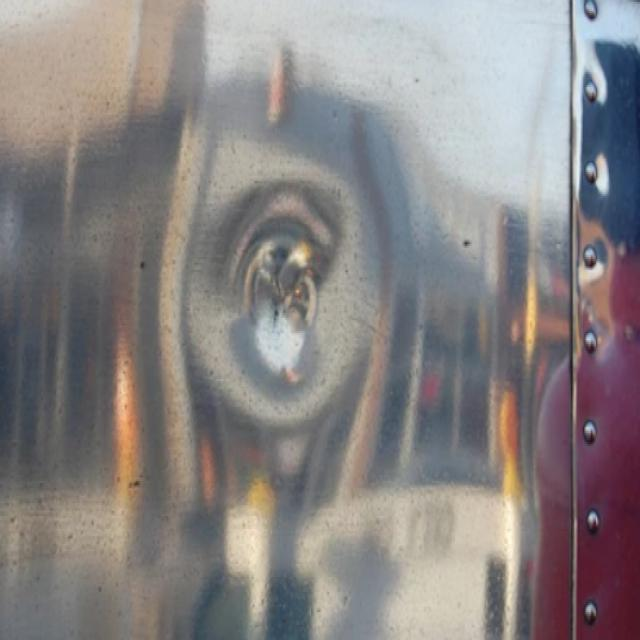dents: (184, 186, 399, 401)
